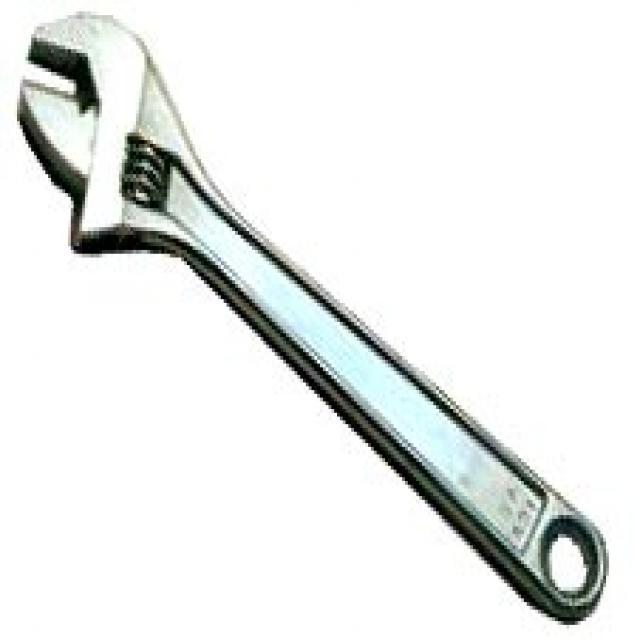wrench: (14, 9, 614, 636)
